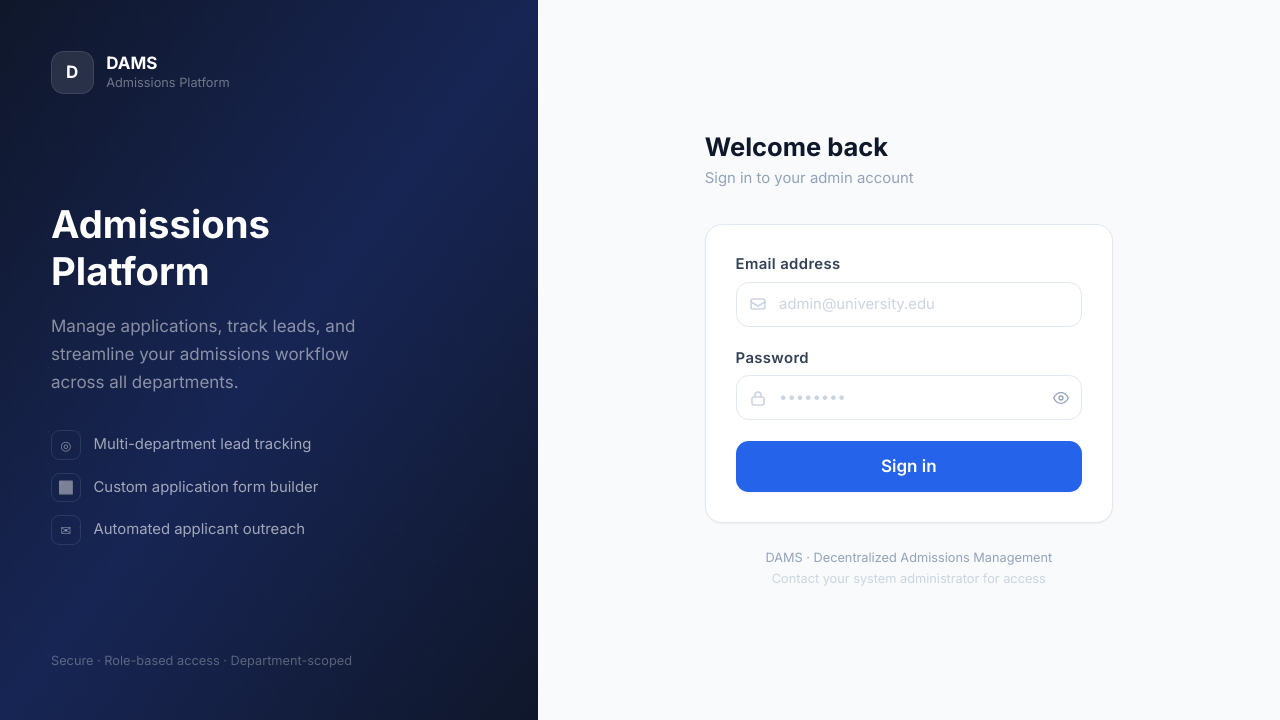
Sign-in page — form submission › shows error message on failed login
Step 1. Type "wrong@dams.edu" into the field with test id "email-input" → (909, 304), box left=736, top=282, right=1082, bottom=326
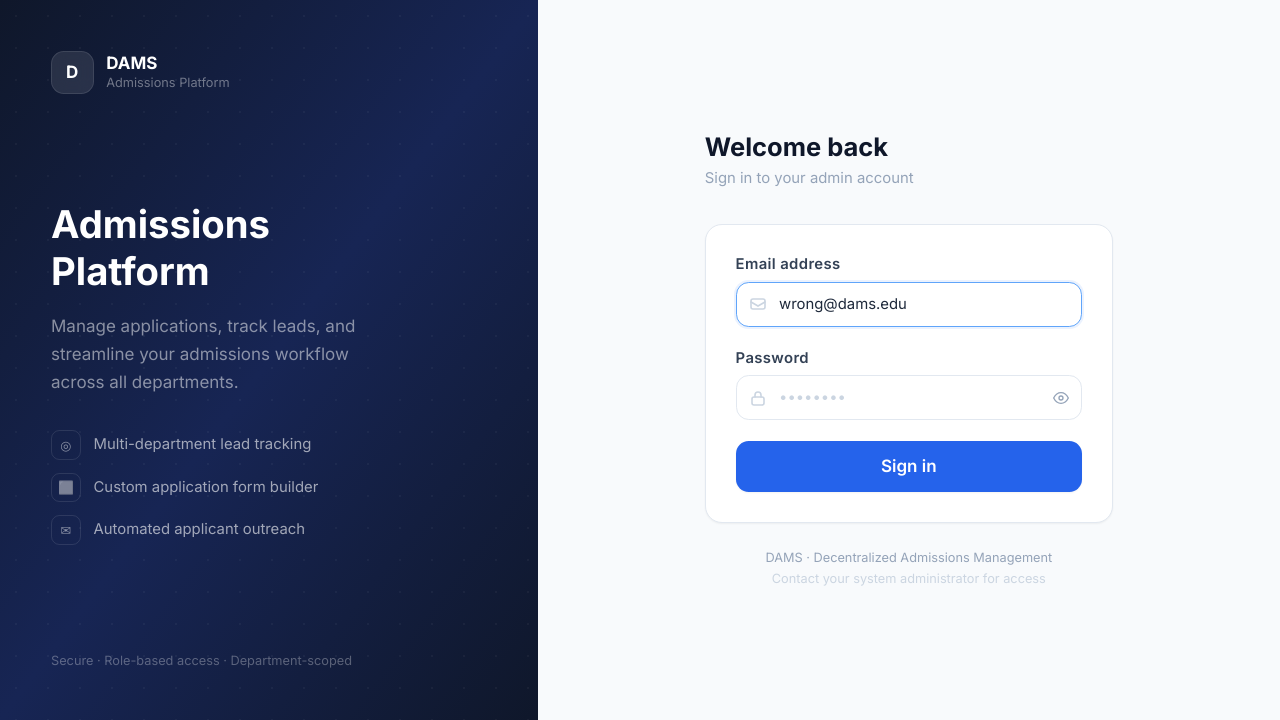
Step 2. Type "wrongpass" into the password field with test id "password-input" → (909, 398), box left=736, top=375, right=1082, bottom=420
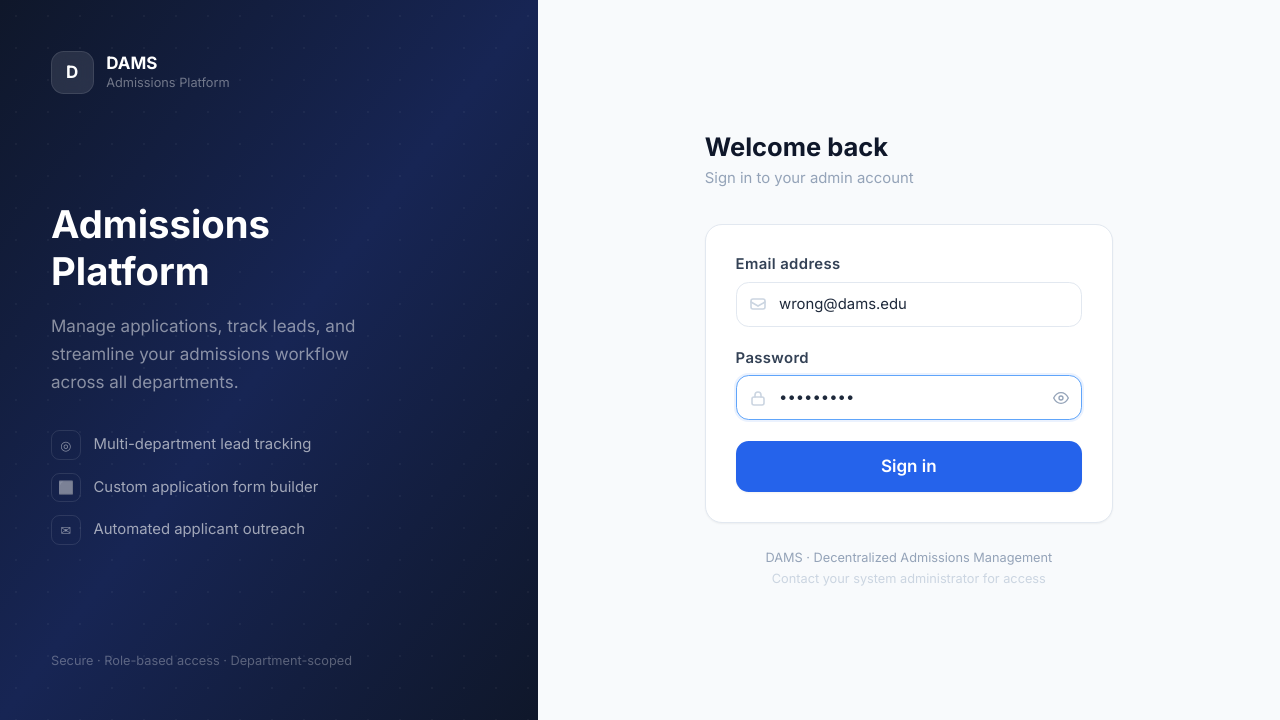
Step 3. Click the button with test id "submit-btn" → (909, 467), box left=736, top=441, right=1082, bottom=492
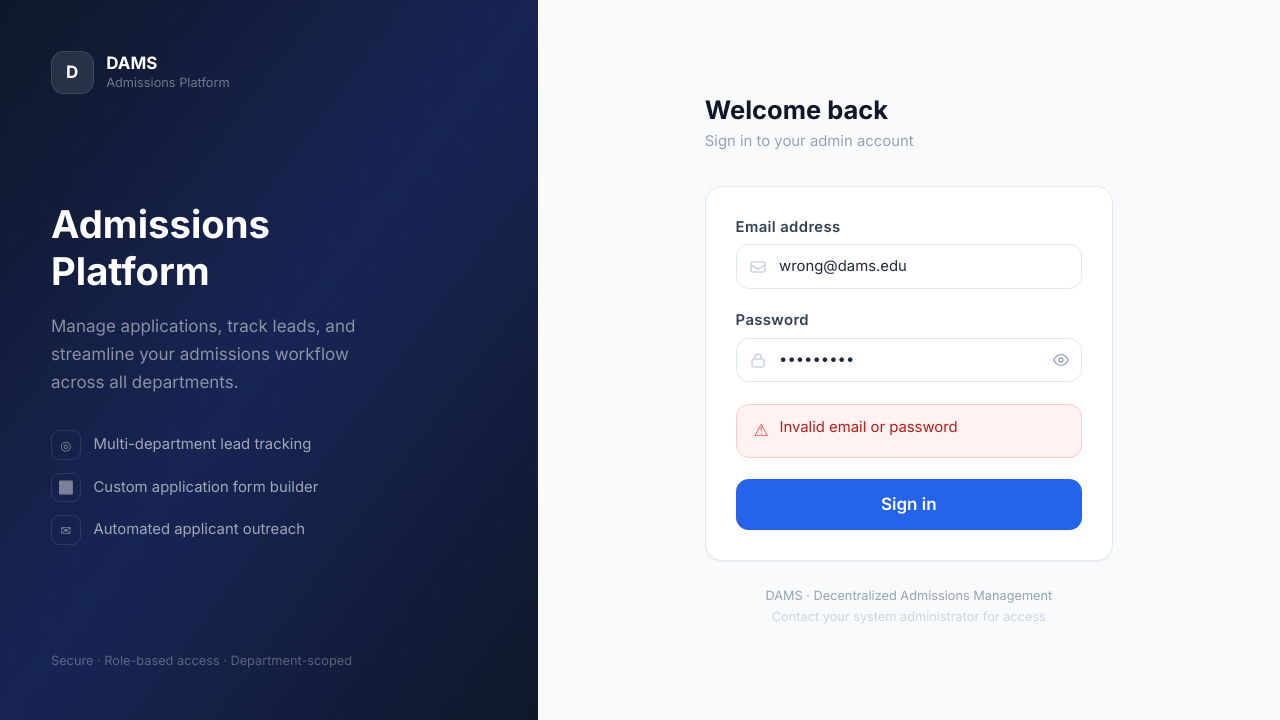
Expected: the message shows "Invalid email or password", left=779, top=418, right=958, bottom=436
